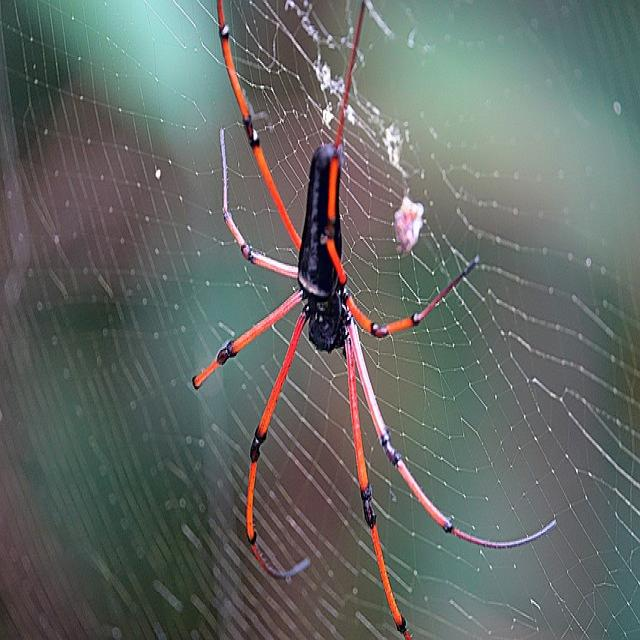spyder: (192, 4, 479, 578), (219, 2, 298, 245), (348, 338, 406, 632), (222, 130, 295, 275)
